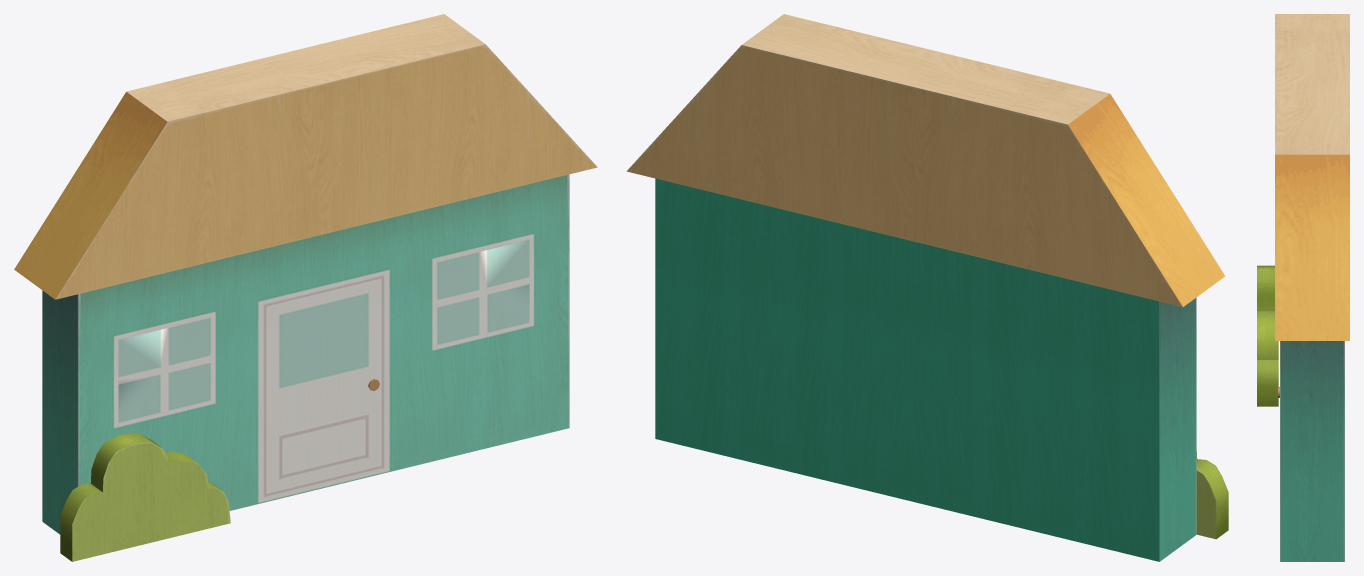
File: Doll_OB_ToyTrainDec_007.FBX
3 renders of one model, left to right at view 1: azimuth 30°, elevation 25°; view 2: azimuth 150°, elevation 25°; view 3: azimuth 270°, elevation 25°, orthographic. The views are drawn at different scales.
Visible parts, largest first — view 1: Doll_OB_ToyTrainDec_007; view 2: Doll_OB_ToyTrainDec_007; view 3: Doll_OB_ToyTrainDec_007.
Boxes of the visible parts, x1,y1,x2,y2 form: Doll_OB_ToyTrainDec_007: (14,14,597,561); Doll_OB_ToyTrainDec_007: (626,14,1228,561); Doll_OB_ToyTrainDec_007: (1257,14,1349,561).
Size of the model in its own units: 30.99 by 22.22 by 5.07.
